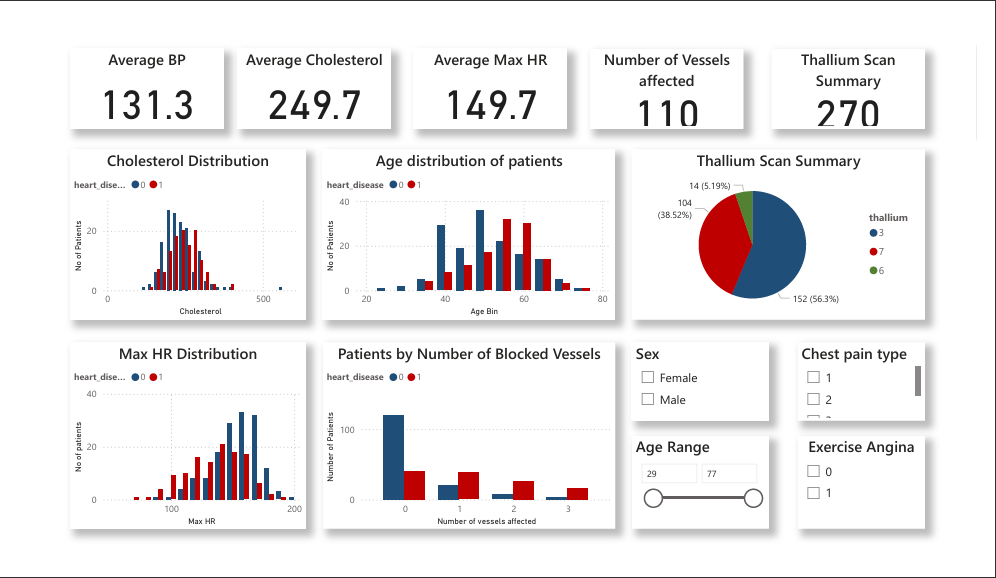

The dashboard page shown, as its layout file describes it:
{"tool":"powerbi","page":{"name":"Patient Metrics","canvas":[1280,720],"ordinal":2},"visuals":[{"type":"card","title":"Average BP ","fields":{"Values":["Heart_Disease_Prediction_Cleaned.Avg BP"]},"box":[70.6,40,204.9,107.5],"z":0},{"type":"card","title":"Average Cholesterol ","fields":{"Values":["Heart_Disease_Prediction_Cleaned.Avg Cholesterol"]},"box":[294,40,204.9,107.5],"z":1000},{"type":"card","title":"Average Max HR ","fields":{"Values":["Heart_Disease_Prediction_Cleaned.Avg Max HR"]},"box":[529.2,40,204.9,107.5],"z":2000},{"type":"card","title":"Number of Vessels affected","fields":{"Values":["CountNonNull(Heart_Disease_Prediction_Cleaned.num_vessels_fluro)"]},"box":[764.3,40,204.9,107.5],"z":3000},{"type":"card","title":"Thallium Scan Summary","fields":{"Values":["CountNonNull(Heart_Disease_Prediction_Cleaned.thallium)"]},"box":[1006.2,40,204.9,107.5],"z":4000},{"type":"clusteredColumnChart","title":"Cholesterol Distribution","fields":{"Y":["CountNonNull(Heart_Disease_Prediction_Cleaned.age)"],"Category":["Heart_Disease_Prediction_Cleaned.cholesterol (bins)"],"Series":["Heart_Disease_Prediction_Cleaned.heart_disease"]},"box":[70.6,174.4,314.1,226.8],"z":5000},{"type":"clusteredColumnChart","title":"Max HR Distribution","fields":{"Y":["CountNonNull(Heart_Disease_Prediction_Cleaned.age)"],"Series":["Heart_Disease_Prediction_Cleaned.heart_disease"],"Category":["Heart_Disease_Prediction_Cleaned.max_hr (bins)"]},"box":[70.6,431.4,314.1,248.6],"z":6000},{"type":"clusteredColumnChart","title":"Age distribution of patients","fields":{"Category":["Heart_Disease_Prediction_Cleaned.Age Bin"],"Y":["CountNonNull(Heart_Disease_Prediction_Cleaned.age)"],"Series":["Heart_Disease_Prediction_Cleaned.heart_disease"]},"box":[408.2,174.4,389.7,226.8],"z":7000},{"type":"clusteredColumnChart","title":"Patients by Number of Blocked Vessels","fields":{"Category":["Heart_Disease_Prediction_Cleaned.num_vessels_fluro"],"Y":["CountNonNull(Heart_Disease_Prediction_Cleaned.num_vessels_fluro)"],"Series":["Heart_Disease_Prediction_Cleaned.heart_disease"]},"box":[408.2,431.4,389.7,248.6],"z":8000},{"type":"pieChart","title":"Thallium Scan Summary","fields":{"Category":["Heart_Disease_Prediction_Cleaned.thallium"],"Y":["CountNonNull(Heart_Disease_Prediction_Cleaned.age)"]},"box":[819.8,174.4,391.4,226.8],"z":9000},{"type":"slicer","title":"Sex","fields":{"Values":["Heart_Disease_Prediction_Cleaned.sex"]},"box":[819.8,431.4,183.1,104.1],"z":10000},{"type":"slicer","title":"Chest pain type","fields":{"Values":["Heart_Disease_Prediction_Cleaned.chest_pain_type"]},"box":[1041.5,431.4,169.7,104.1],"z":11000},{"type":"slicer","title":"Age Range","fields":{"Values":["Heart_Disease_Prediction_Cleaned.age"]},"box":[819.8,555.7,183.1,124.3],"z":12000},{"type":"slicer","title":"Exercise Angina","fields":{"Values":["Heart_Disease_Prediction_Cleaned.exercise_angina"]},"box":[1041.5,555.7,169.7,124.3],"z":13000}]}

Visuals, with their boxes on the page's 1280x720 design canvas (x1, y1, x2, y2). These are canvas units, not pixel positions in the 996x578 screenshot, which may show the page scaled, cropped or inside an application window:
"Average BP " card: rect(71, 40, 276, 148)
"Average Cholesterol " card: rect(294, 40, 499, 148)
"Average Max HR " card: rect(529, 40, 734, 148)
"Number of Vessels affected" card: rect(764, 40, 969, 148)
"Thallium Scan Summary" card: rect(1006, 40, 1211, 148)
"Cholesterol Distribution" clusteredColumnChart: rect(71, 174, 385, 401)
"Max HR Distribution" clusteredColumnChart: rect(71, 431, 385, 680)
"Age distribution of patients" clusteredColumnChart: rect(408, 174, 798, 401)
"Patients by Number of Blocked Vessels" clusteredColumnChart: rect(408, 431, 798, 680)
"Thallium Scan Summary" pieChart: rect(820, 174, 1211, 401)
"Sex" slicer: rect(820, 431, 1003, 536)
"Chest pain type" slicer: rect(1042, 431, 1211, 536)
"Age Range" slicer: rect(820, 556, 1003, 680)
"Exercise Angina" slicer: rect(1042, 556, 1211, 680)
